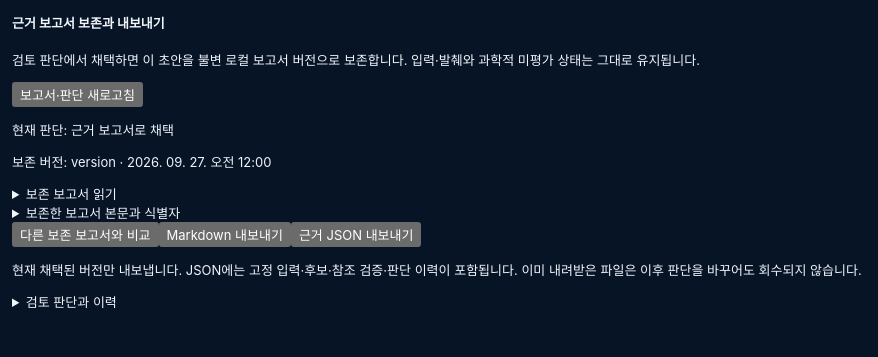
Test: does not download when the server rejects stale acceptance, and disables export after hold
expect the text "현재 판단: 근거 보고서로 채택" is shown: met, box x1=12 y1=122 x2=174 y2=138
Click the button "Markdown 내보내기" at (225, 234), box x1=159 y1=222 x2=291 y2=247
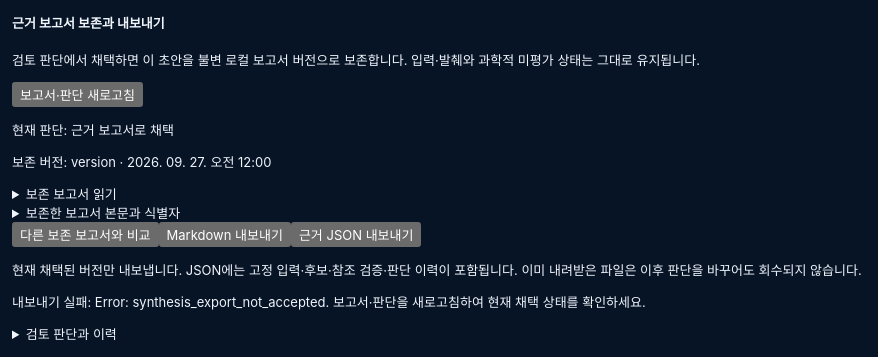
expect the message "내보내기 실패: Error: synthesis_export_not_accepted. 보고서·판단을 새로고침하여 현재 채택 상태를 확인하세요." is shown: met, box x1=12 y1=294 x2=646 y2=310
Click the button "보고서·판단 새로고침" at (78, 94), box x1=12 y1=82 x2=143 y2=107
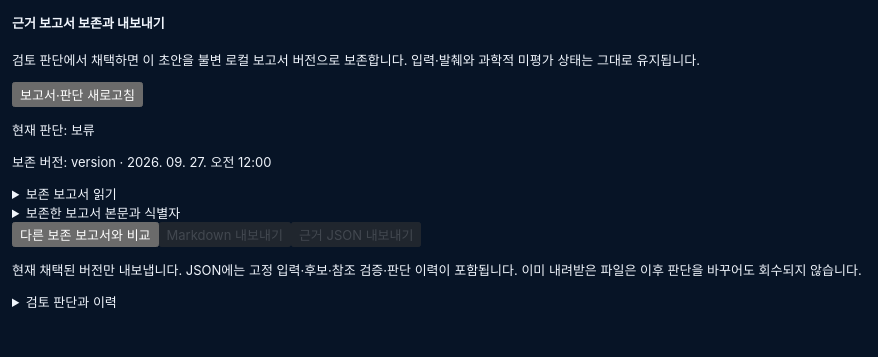
expect the text "현재 판단: 보류" is shown: met, box x1=12 y1=122 x2=95 y2=138
expect the button "Markdown 내보내기" is disabled: met, box x1=159 y1=222 x2=291 y2=247
